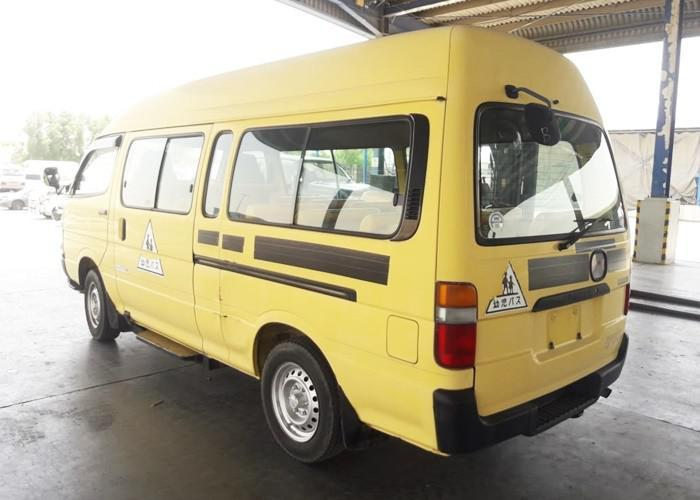Van: (38, 26, 631, 446)
